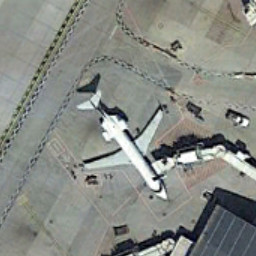Airplane: (64, 77, 176, 207)
